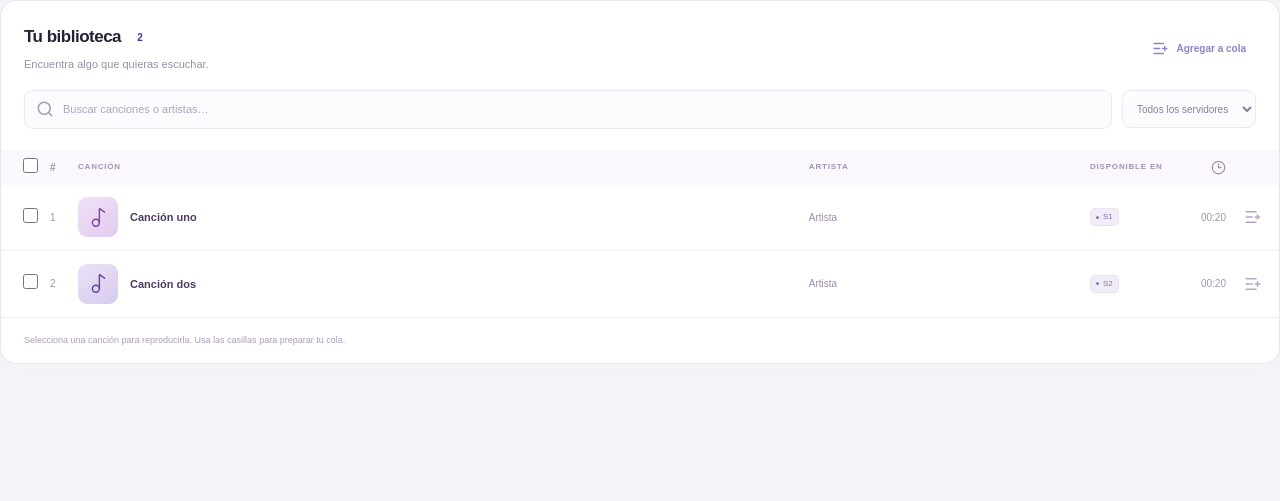
Test: Biblioteca web › filtra por búsqueda y por servidor
Select "S2" in the dropdown named "Filtrar por servidor". click: (1189, 109)
box: [1122,90,1256,128]
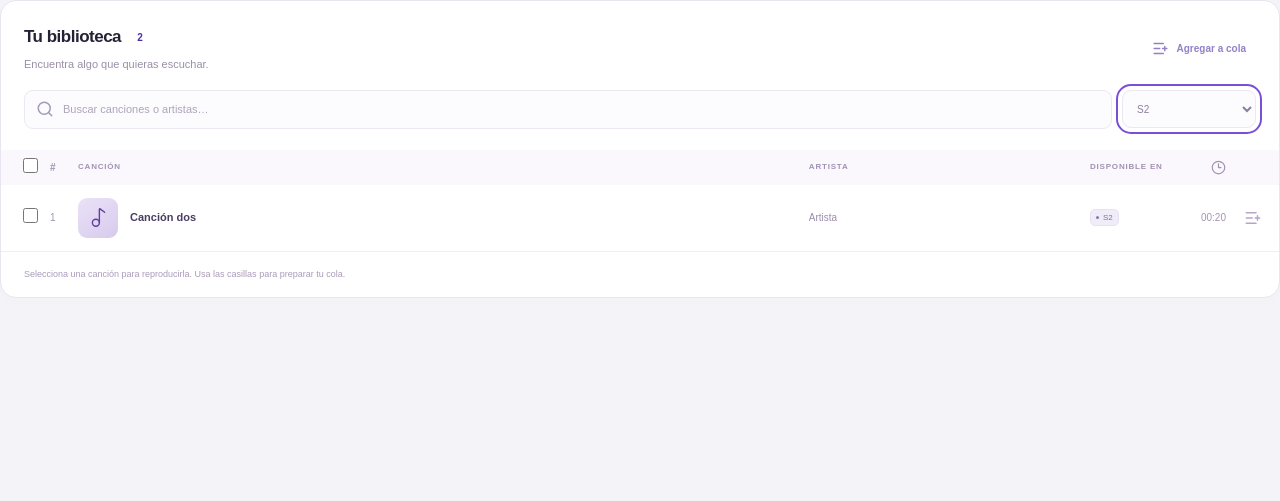
expect the button with aria-label "Reproducir Canción dos" is shown: met, box [78,188,809,246]
Type "no existe" into the search field. click: (582, 109)
box: [63,91,1100,128]
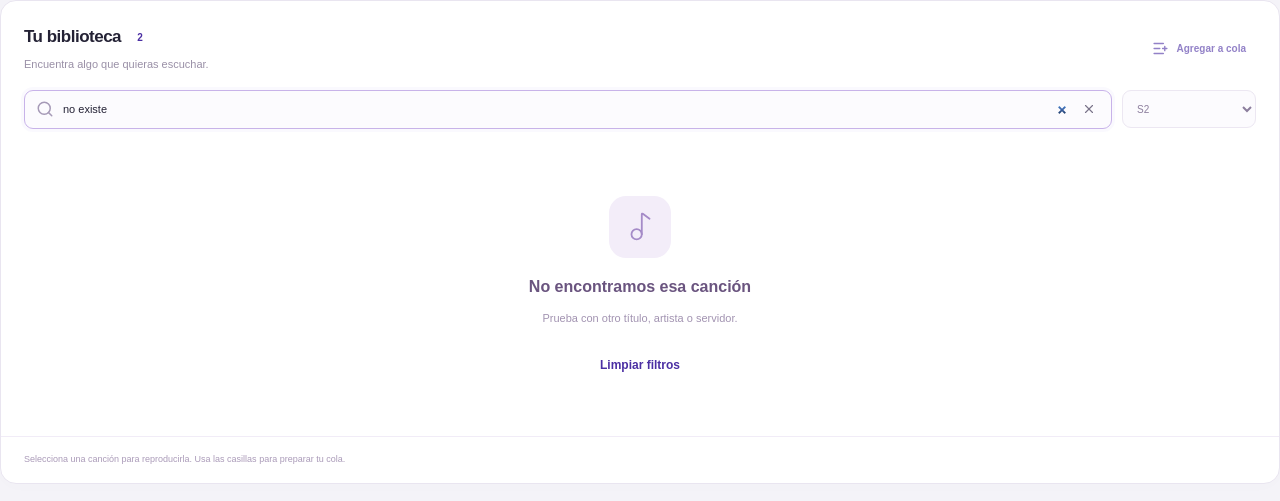
expect the heading "No encontramos esa canción" is shown: met, box [529,274,751,298]
